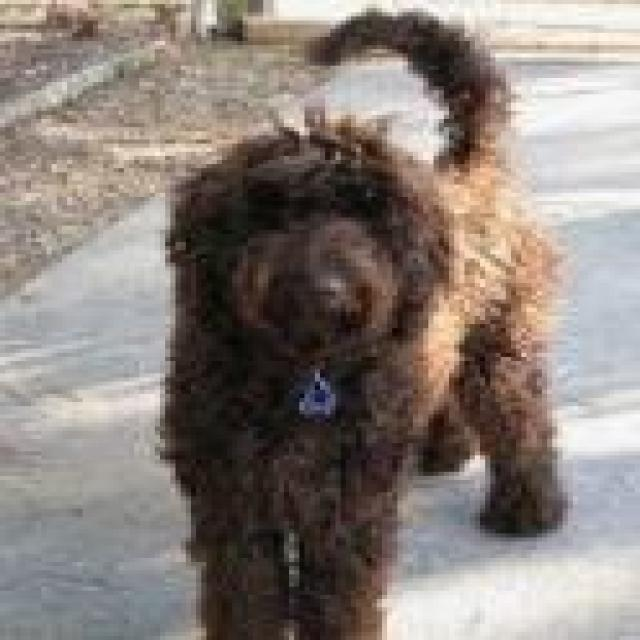Perro: (134, 0, 573, 640)
